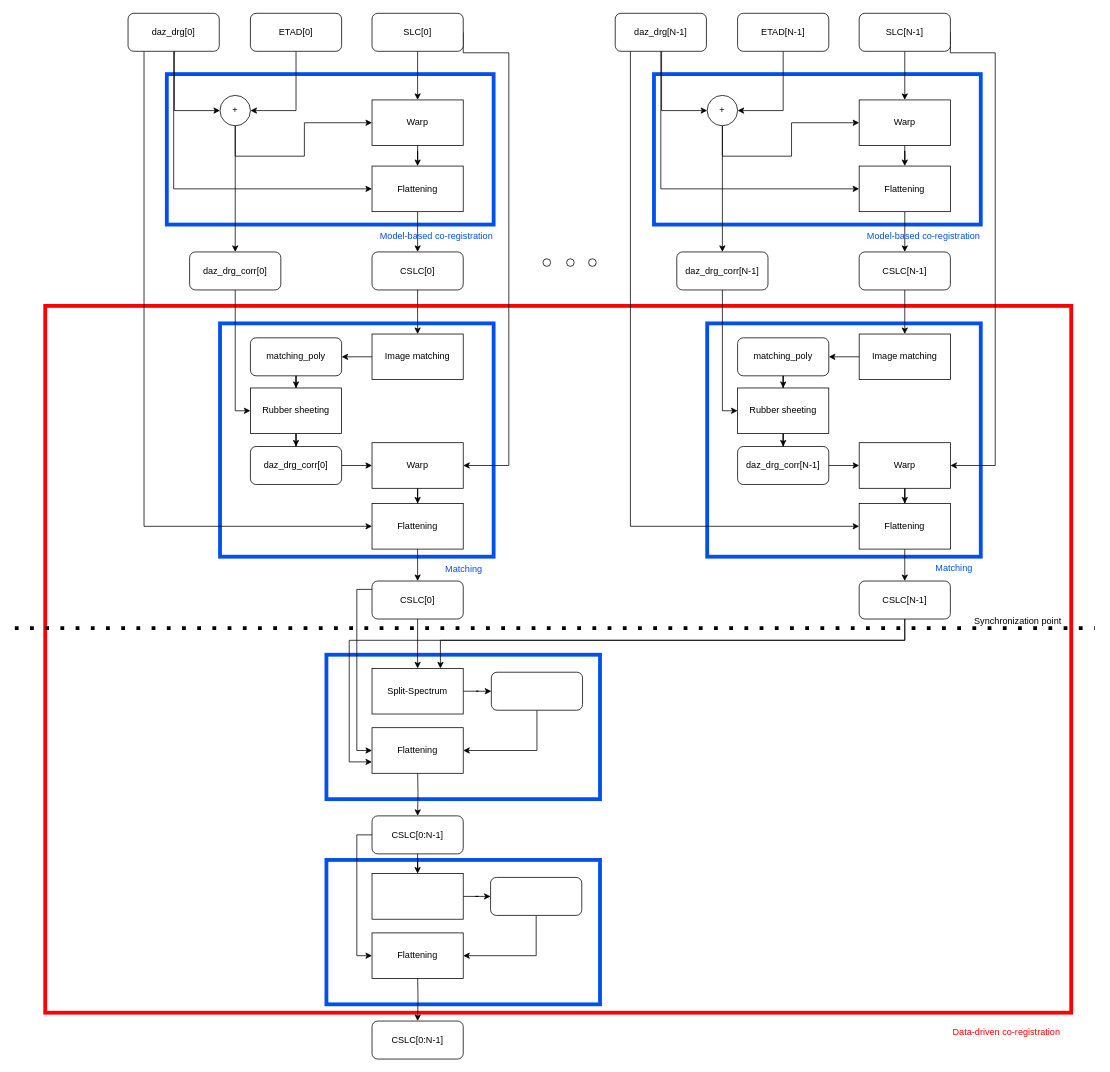
This 1110x1072 diagram has some shape labels left out. The shapes that lost their labels are listed below. From the top down, each one's centre as x and y in pixels, then its label:
point 537,690: iono_phase
point 417,896: ESD
point 536,896: ESD_phase
